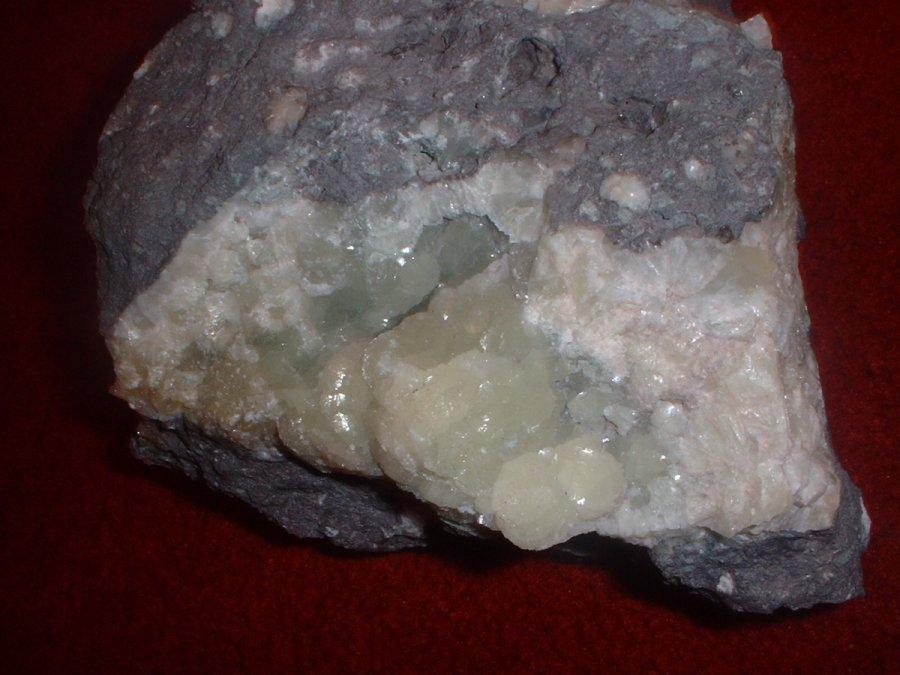prehnite: (109, 197, 842, 550)
